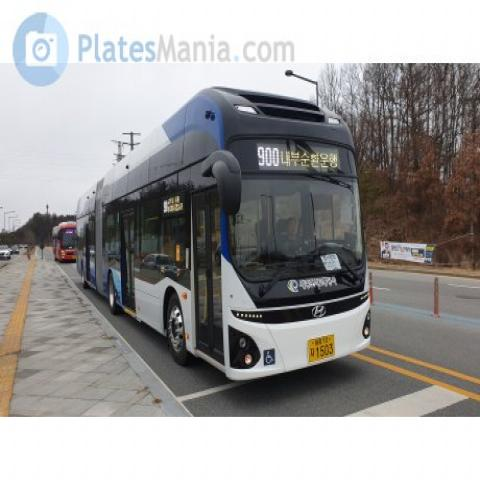LP: (301, 327, 338, 369)
